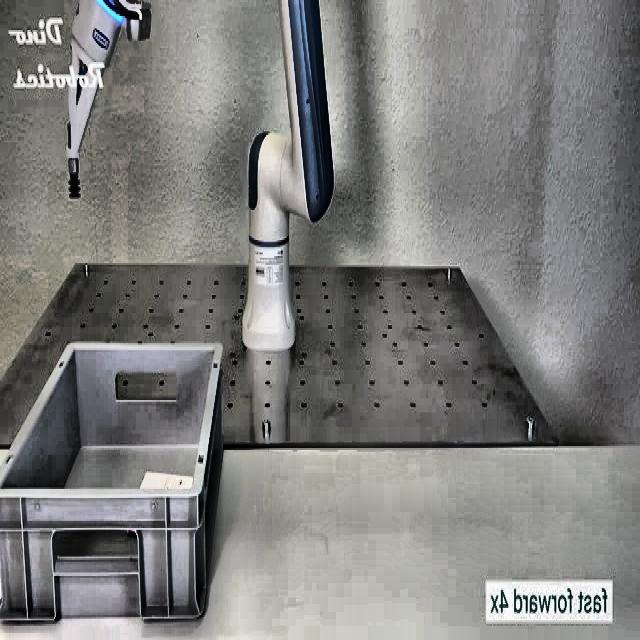robot: (55, 0, 341, 372)
